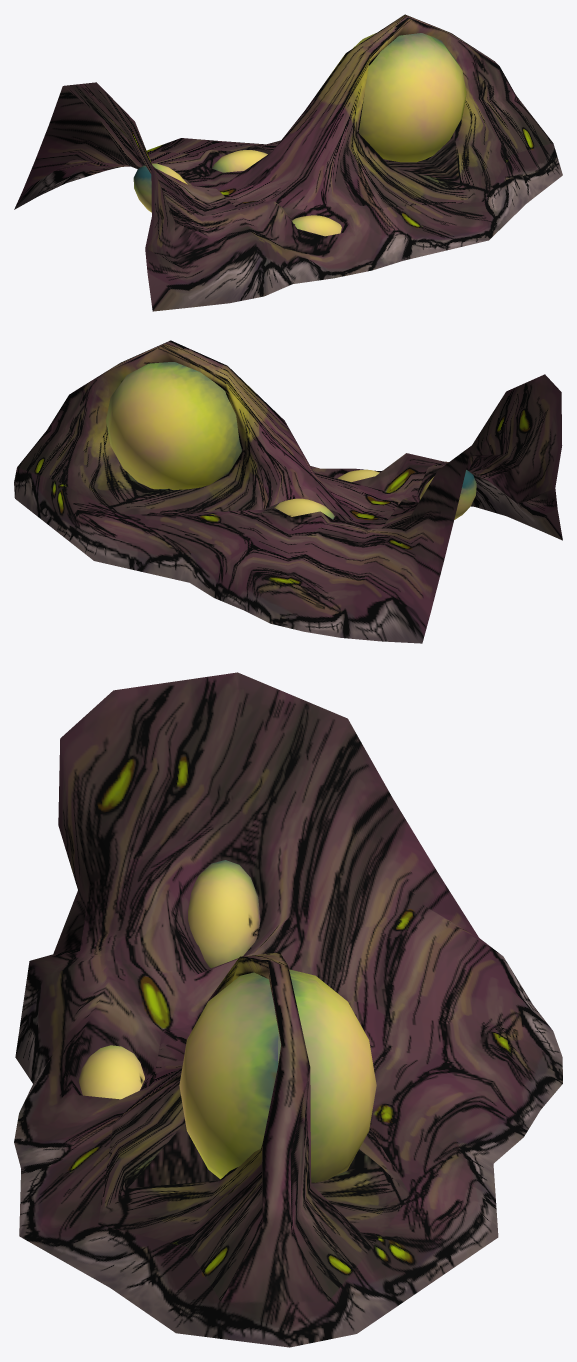
Rendered from CosmicGoo_Mound_Ripe.fbx.
3 views of the same model, one above another, from view 1: azimuth 30°, elevation 25°; view 2: azimuth 150°, elevation 25°; view 3: azimuth 270°, elevation 25° (orthographic). The views are drawn at different scales.
Visible parts, largest first — view 1: GooMound_ripe, GooSac_Large_01, GooSac_Small_02, GooSac_Small_03, GooSac_Small_01; view 2: GooMound_ripe, GooSac_Large_01, GooSac_Small_03, GooSac_Small_02; view 3: GooMound_ripe, GooSac_Large_01, GooSac_Small_02, GooSac_Small_01.
Boxes of the visible parts, bbox=[...] form: GooMound_ripe: bbox=[14, 14, 562, 311]; GooSac_Large_01: bbox=[352, 33, 466, 162]; GooSac_Small_02: bbox=[133, 163, 187, 212]; GooSac_Small_03: bbox=[212, 150, 267, 172]; GooSac_Small_01: bbox=[292, 215, 341, 236]; GooMound_ripe: bbox=[14, 340, 562, 643]; GooSac_Large_01: bbox=[106, 362, 241, 489]; GooSac_Small_03: bbox=[274, 498, 334, 519]; GooSac_Small_02: bbox=[420, 470, 476, 519]; GooMound_ripe: bbox=[14, 672, 562, 1347]; GooSac_Large_01: bbox=[179, 969, 376, 1182]; GooSac_Small_02: bbox=[188, 860, 260, 967]; GooSac_Small_01: bbox=[79, 1045, 144, 1099].
Size of the model in its own units: 21.12 by 8.45 by 13.28.
